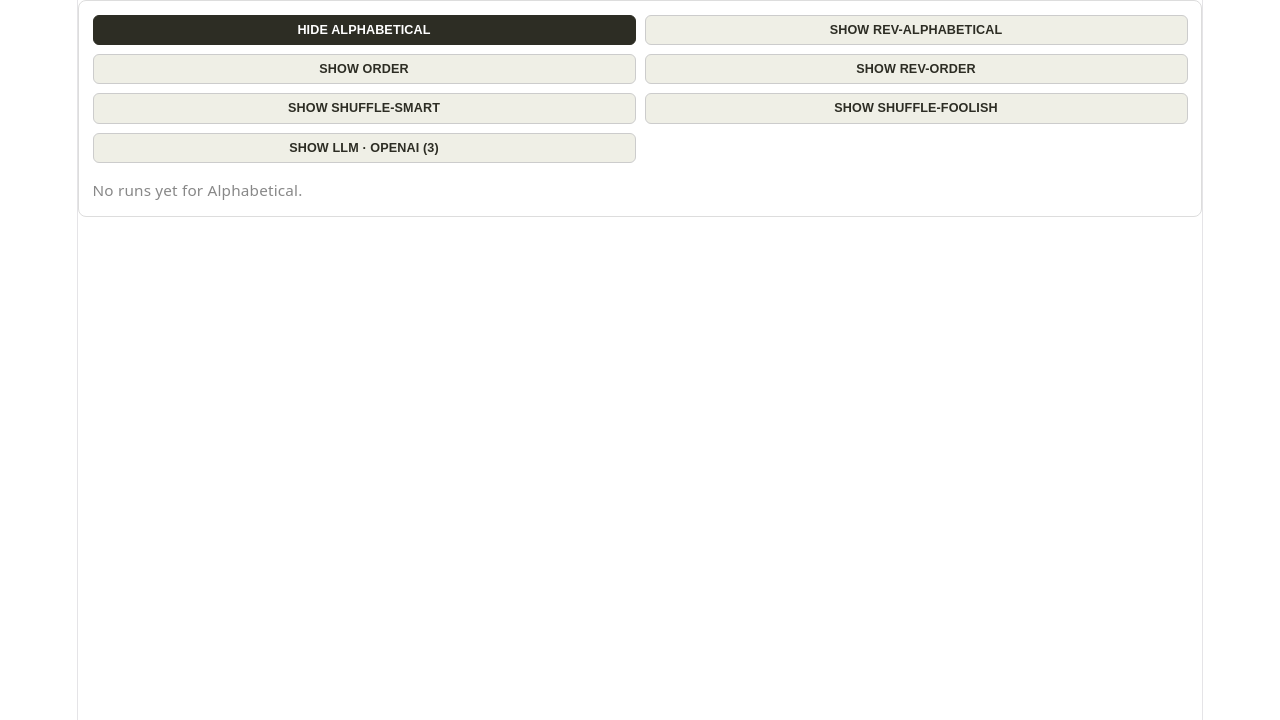
it: GuessSequencePanel Component › differentiates between LLM trials and switches between them
Step 1. Click the button "Show LLM · OpenAI (3)" → (364, 148), box [92,133,636,163]
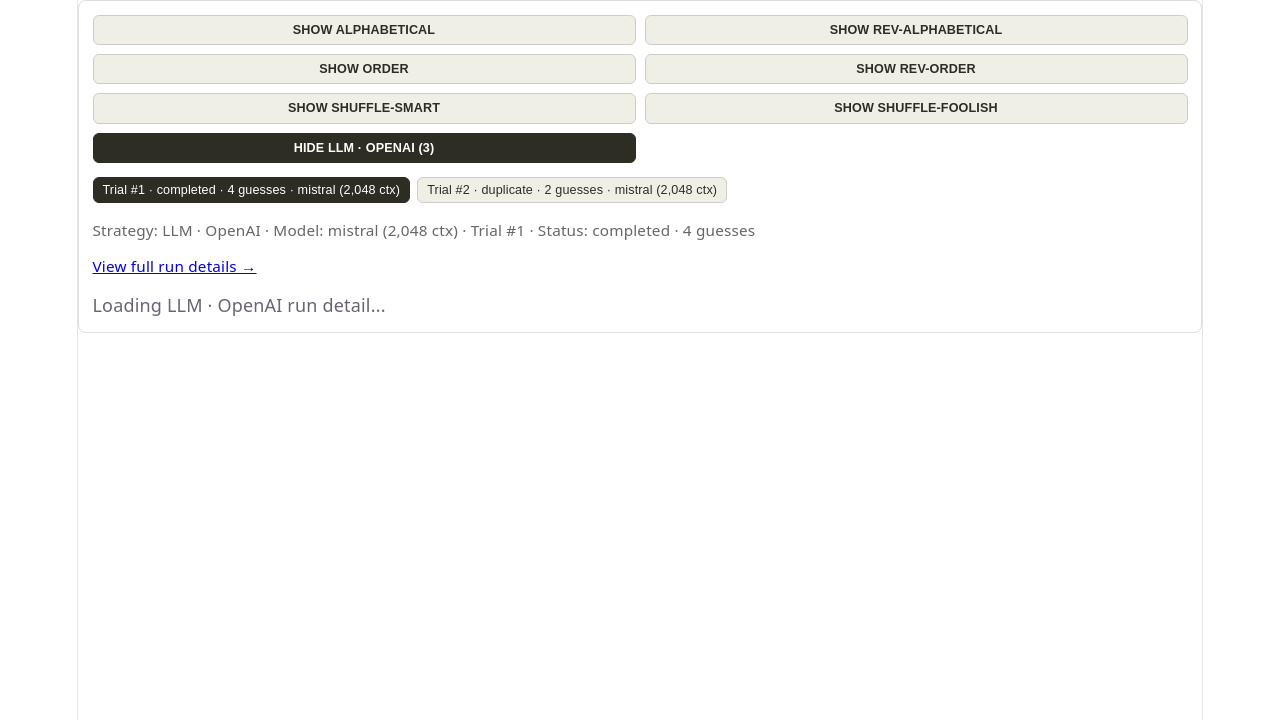
expect the button "Hide LLM · OpenAI (3)" is shown: met, box [92,133,636,163]
expect the button "Trial #1 · completed · 4 guesses · mistral (2,048 ctx)" is shown: met, box [92,176,410,203]
expect the button "Trial #2 · duplicate · 2 guesses · mistral (2,048 ctx)" is shown: met
Step 2. Click the button "Trial #2 · duplicate · 2 guesses · mistral (2,048 ctx)" → (572, 190), box [417,176,727,203]
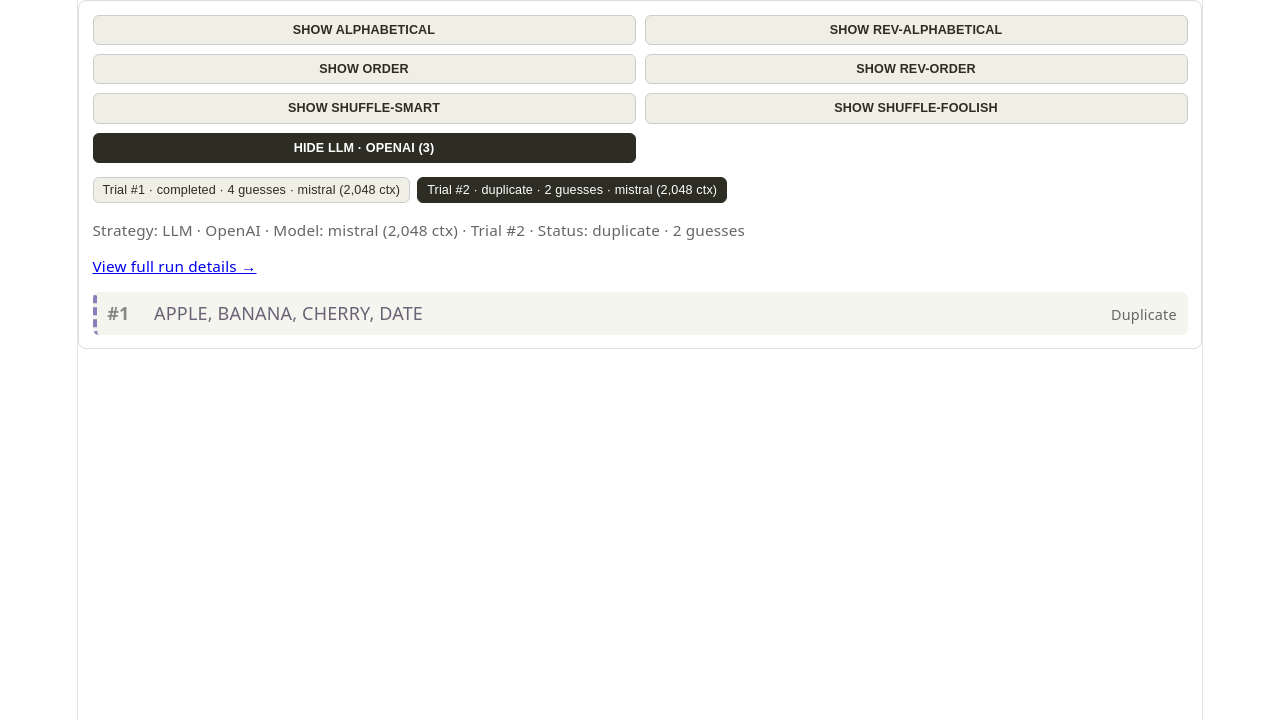
expect the text "Strategy: LLM · OpenAI · Model: mistral (2,048 ctx) · Trial #2 · Status: duplicate · 2 guesses" is shown: met, box [92,220,745,240]
expect the text "Duplicate" is shown: met, box [1111,302,1177,328]
